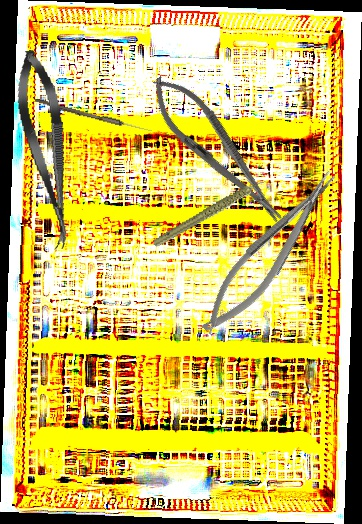Handpiece: (145, 178, 279, 248)
Micro Scissor: (8, 46, 85, 253)
Needle Holder: (189, 164, 352, 343), (138, 64, 296, 236)
Surgical Spoon: (34, 98, 153, 134)
